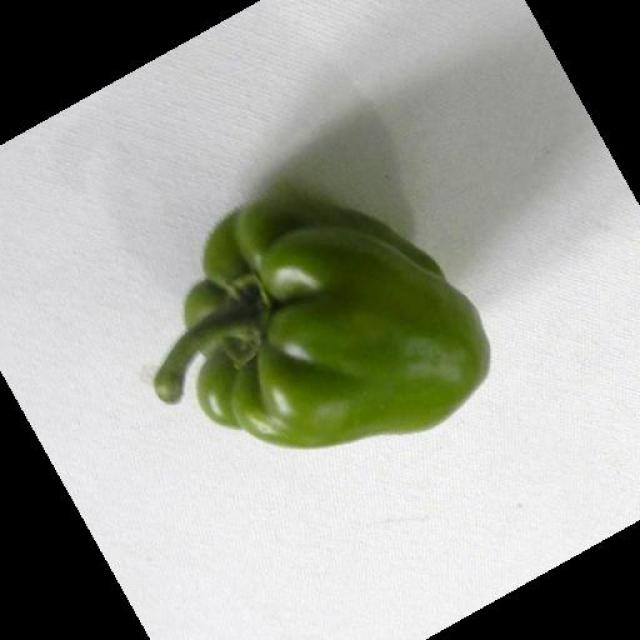Fresh_Capsicum: (129, 200, 512, 452)
